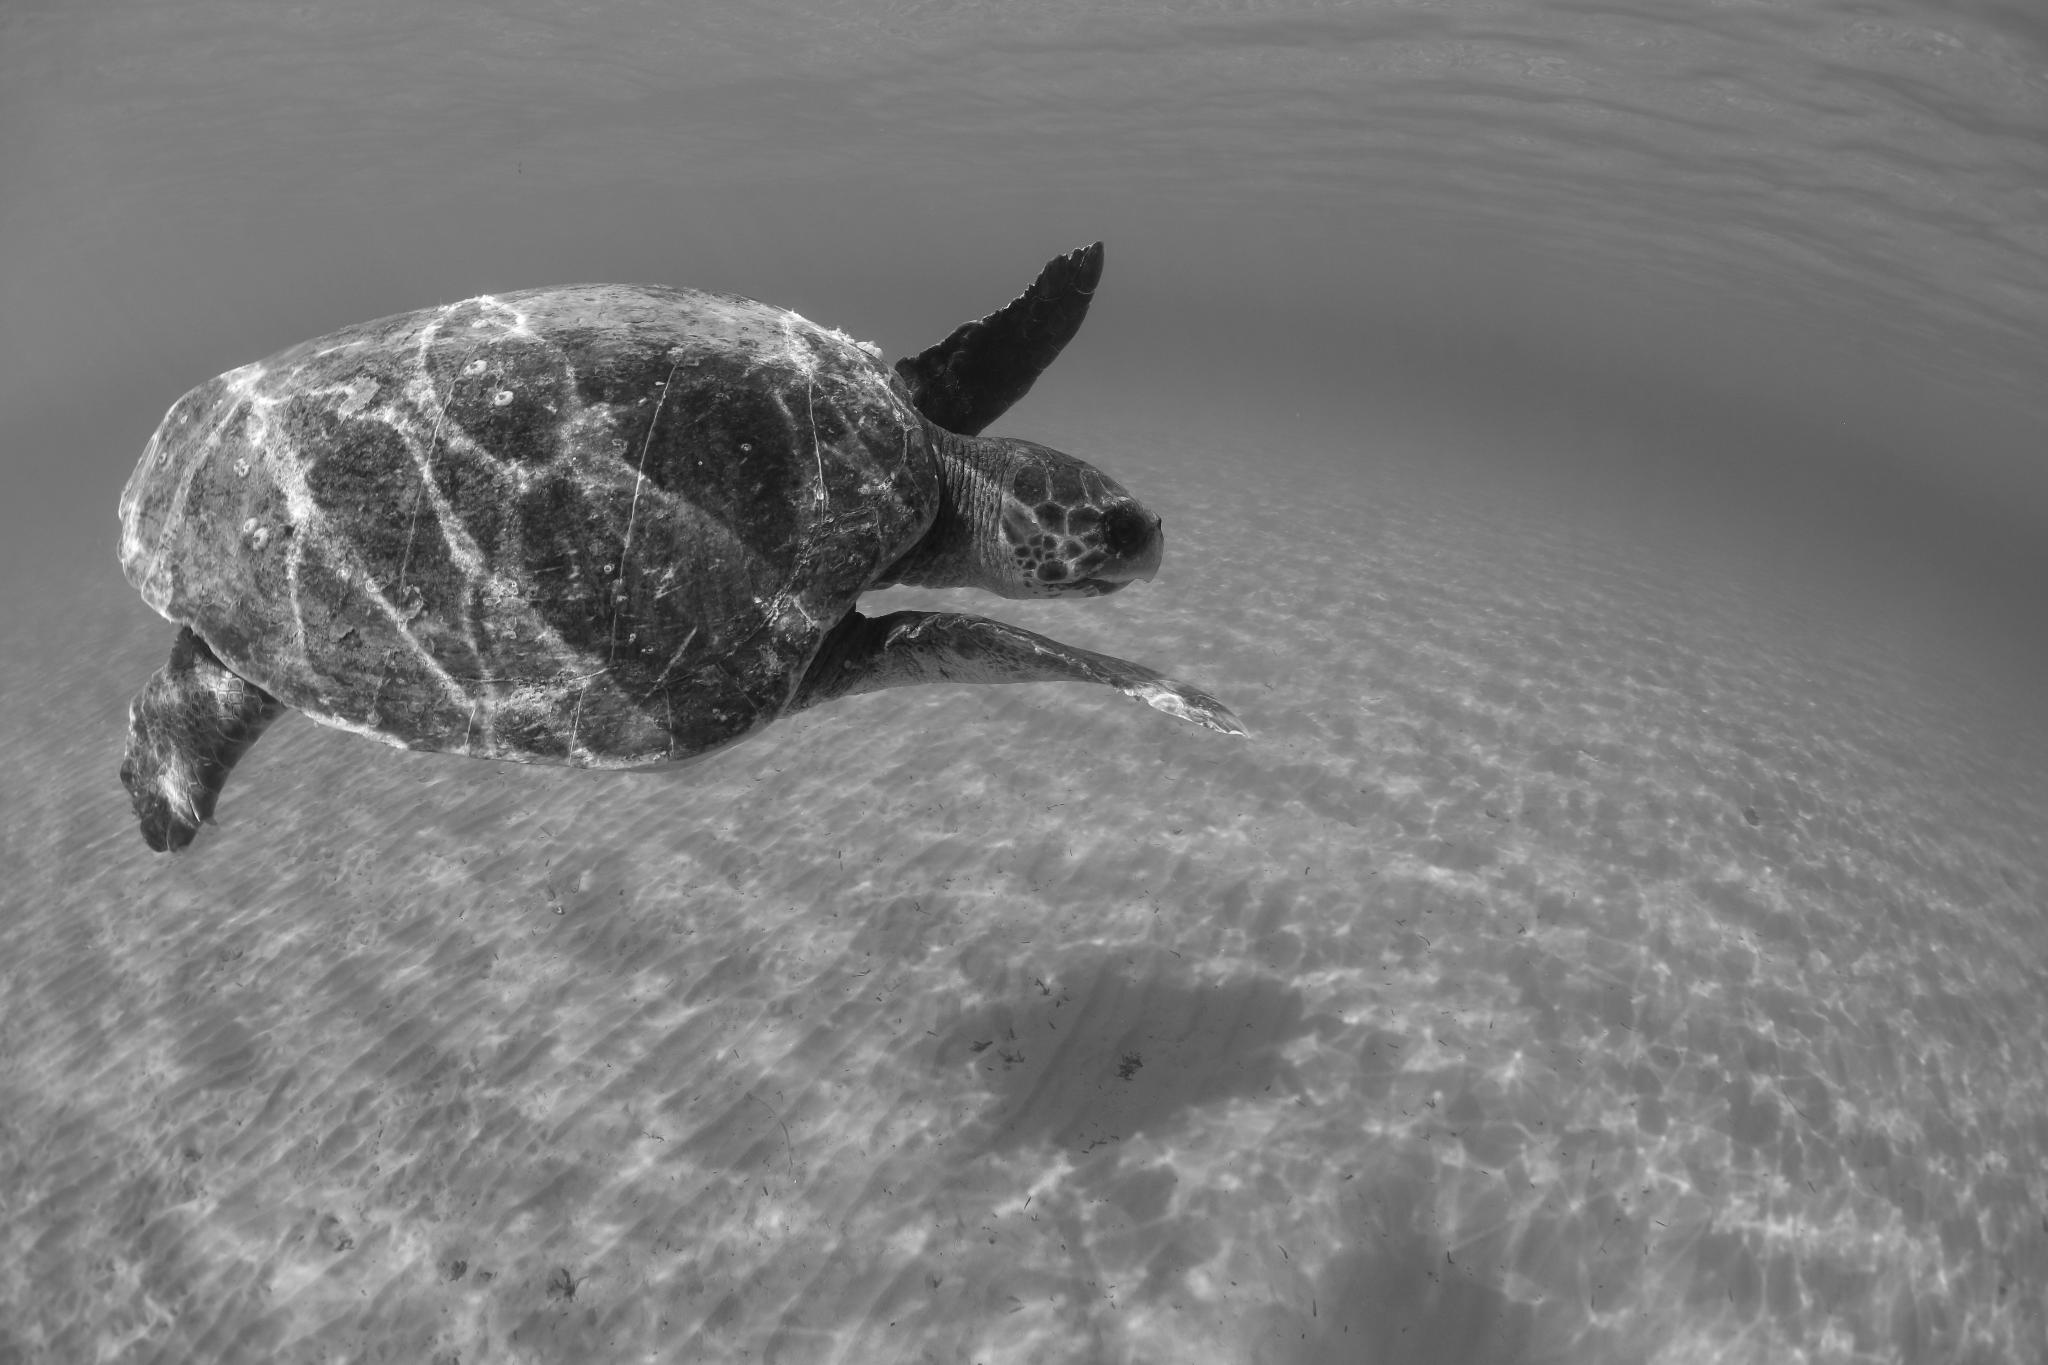Head: (939, 435, 1164, 600)
